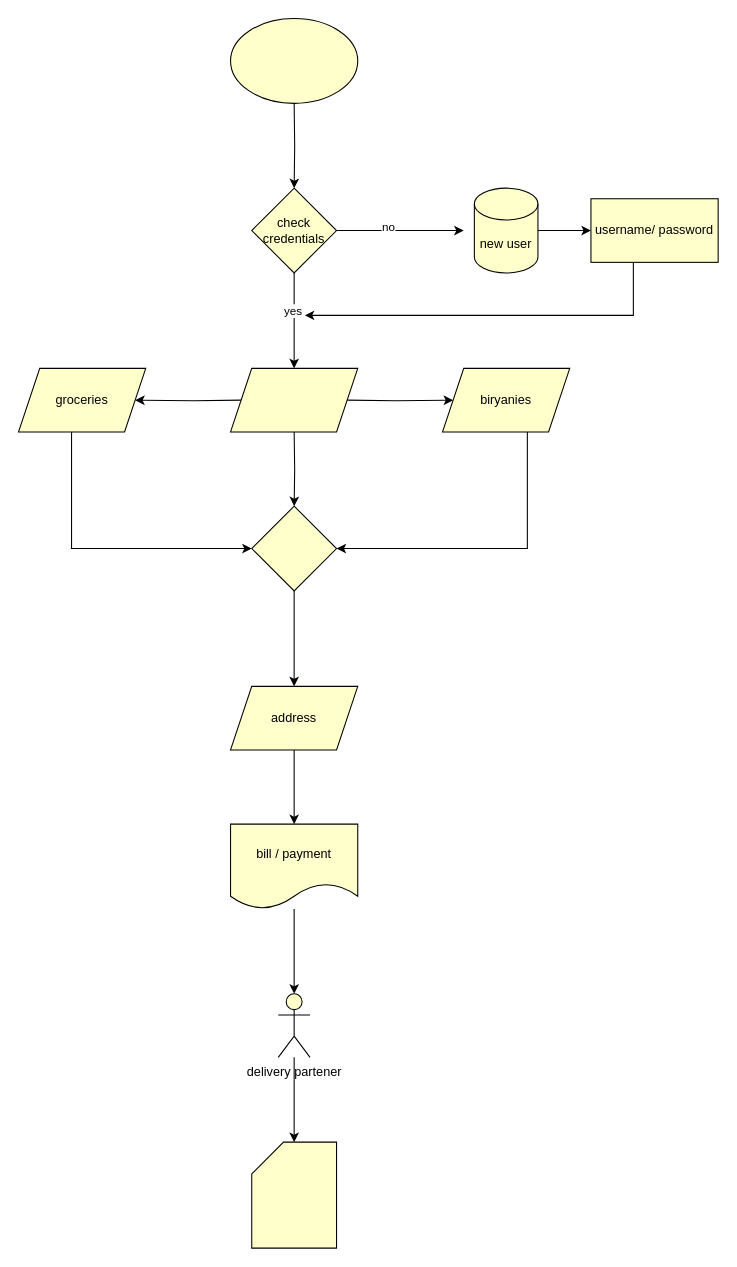
Image size: 737x1267. Some labels were removed from this diagram. The shapes that lost their labels are listed below. From the top down, each one's centre as x and y in pixels, then its label:
At pixel 293 60: "login".
At pixel 293 399: "restaurents".
At pixel 294 548: "confirm order".
At pixel 294 1194: "feedback".
